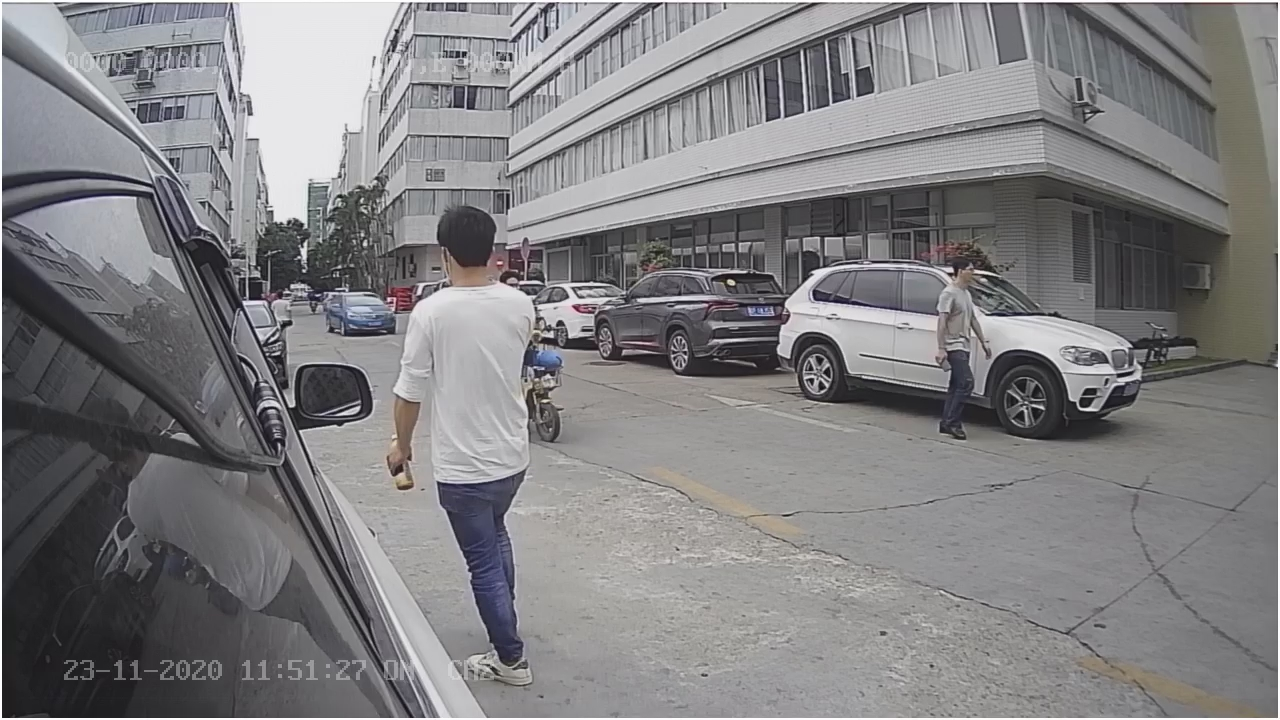person: (388, 204, 539, 464), (926, 240, 1000, 448)
